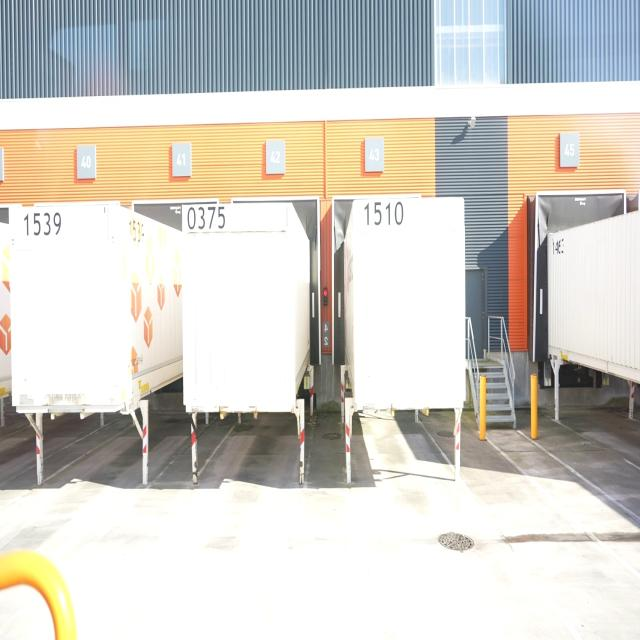Code: (19, 203, 64, 243), (184, 203, 230, 238), (363, 197, 405, 230)
